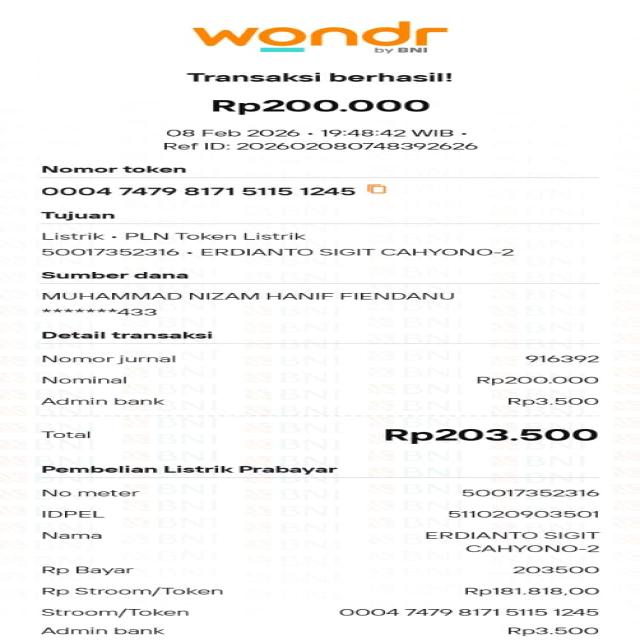date: (153, 125, 477, 140)
store: (182, 23, 459, 52)
total: (32, 425, 607, 445)
